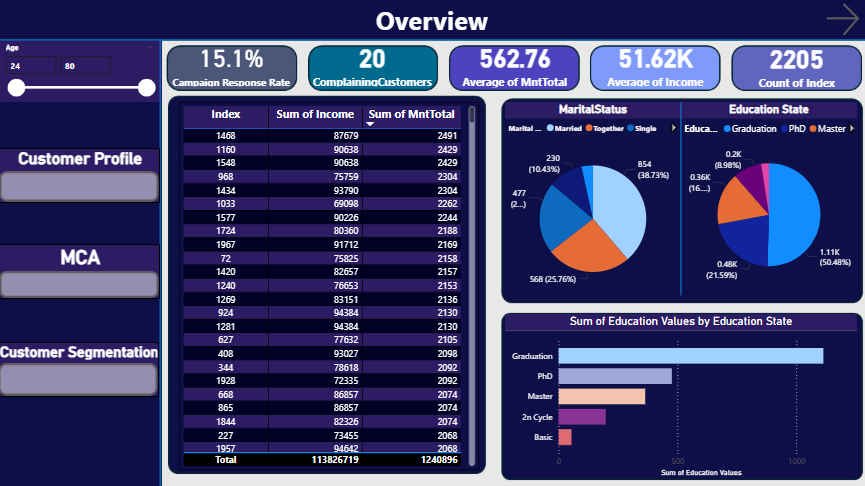

This screenshot's page, from the dashboard's own definition file:
{"tool":"powerbi","page":{"name":"Overview","canvas":[1280,720],"ordinal":0},"visuals":[{"type":"textbox","box":[539.3,0,202.8,60.2],"z":0},{"type":"slicer","fields":{"Values":["ifood_df.Age"]},"box":[1.5,60.2,241,89.6],"z":1000},{"type":"card","fields":{"Values":["Count(ifood_df.Index)"]},"box":[1096.2,54.4,161.6,82.3],"z":2000},{"type":"card","fields":{"Values":["Avg(ifood_df.Income)"]},"box":[883.1,54.4,171.9,79.3],"z":3000},{"type":"card","fields":{"Values":["Avg(ifood_df.MntTotal)"]},"box":[673,52.9,179.3,82.3],"z":4000},{"type":"card","fields":{"Values":["ifood_df.Campaign Response Rate"]},"box":[245.4,54.4,201.3,79.3],"z":5000},{"type":"pieChart","title":"MaritalStatus","fields":{"Category":["ifood_df.MaritalStatus"],"Y":["CountNonNull(ifood_df.MaritalStatus)"]},"box":[747.9,151.3,258.6,296.8],"z":6000},{"type":"pieChart","title":"Education State","fields":{"Category":["ifood_df.Education State"],"Y":["CountNonNull(ifood_df.Education Values)"]},"box":[1006.5,151.3,258.6,283.6],"z":7000},{"type":"barChart","fields":{"Category":["ifood_df.Education State"],"Y":["Sum(ifood_df.Education Values)"]},"box":[747.9,462.9,517.2,242.4],"z":8000},{"type":"card","fields":{"Values":["ifood_df.ComplainingCustomers"]},"box":[457,54.4,192.5,79.3],"z":9000},{"type":"tableEx","fields":{"Values":["ifood_df.Index","Sum(ifood_df.Income)","Sum(ifood_df.MntTotal)"]},"box":[268.9,151.3,440.8,540.7],"z":10000},{"type":"shape","box":[987.4,151.3,38.2,283.6],"z":11000},{"type":"shape","box":[2.9,0,1276.9,120.5],"z":12000},{"type":"shape","box":[179.7,60.5,124.3,660.2],"z":13000},{"type":"actionButton","box":[1214.3,0,65.1,60.3],"z":14000},{"type":"actionButton","title":"MCA","box":[3.2,360.3,238.1,81],"z":15000},{"type":"actionButton","title":"Customer Profile","box":[2.9,218.9,238,80.8],"z":16000},{"type":"actionButton","title":"Customer Segmentation","box":[1.5,504,238,80.8],"z":17000}]}

Visuals, with their boxes in screenshot pixels (x1, y1, x2, y2), scaled from the page's 1280x720 canvas onto the 865x486 screenshot:
textbox: pyautogui.locateOnScreen(364, 0, 501, 41)
slicer - ifood_df.Age: pyautogui.locateOnScreen(1, 41, 164, 101)
card - Count(ifood_df.Index): pyautogui.locateOnScreen(741, 37, 850, 92)
card - Avg(ifood_df.Income): pyautogui.locateOnScreen(597, 37, 713, 90)
card - Avg(ifood_df.MntTotal): pyautogui.locateOnScreen(455, 36, 576, 91)
card - ifood_df.Campaign Response Rate: pyautogui.locateOnScreen(166, 37, 302, 90)
"MaritalStatus" pieChart: pyautogui.locateOnScreen(505, 102, 680, 302)
"Education State" pieChart: pyautogui.locateOnScreen(680, 102, 855, 294)
barChart - ifood_df.Education State x Sum(ifood_df.Education Values): pyautogui.locateOnScreen(505, 312, 855, 476)
card - ifood_df.ComplainingCustomers: pyautogui.locateOnScreen(309, 37, 439, 90)
tableEx - ifood_df.Index x Sum(ifood_df.Income): pyautogui.locateOnScreen(182, 102, 480, 467)
shape: pyautogui.locateOnScreen(667, 102, 693, 294)
shape: pyautogui.locateOnScreen(2, 0, 864, 81)
shape: pyautogui.locateOnScreen(121, 41, 205, 485)
actionButton: pyautogui.locateOnScreen(821, 0, 864, 41)
"MCA" actionButton: pyautogui.locateOnScreen(2, 243, 163, 298)
"Customer Profile" actionButton: pyautogui.locateOnScreen(2, 148, 163, 202)
"Customer Segmentation" actionButton: pyautogui.locateOnScreen(1, 340, 162, 395)
